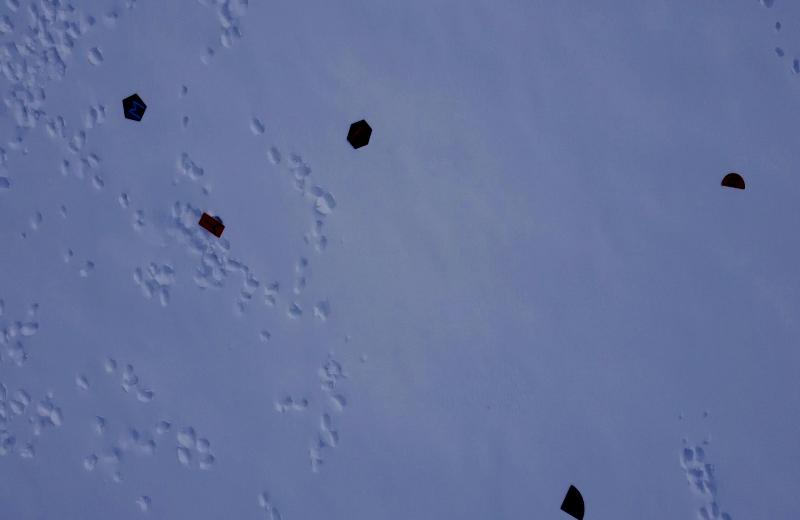Hexagon: (347, 118, 374, 152)
Pentagon: (117, 90, 149, 124)
Quarter Circle: (558, 479, 586, 520)
Rectangle: (197, 211, 226, 239)
Semi Circle: (721, 170, 750, 192)
